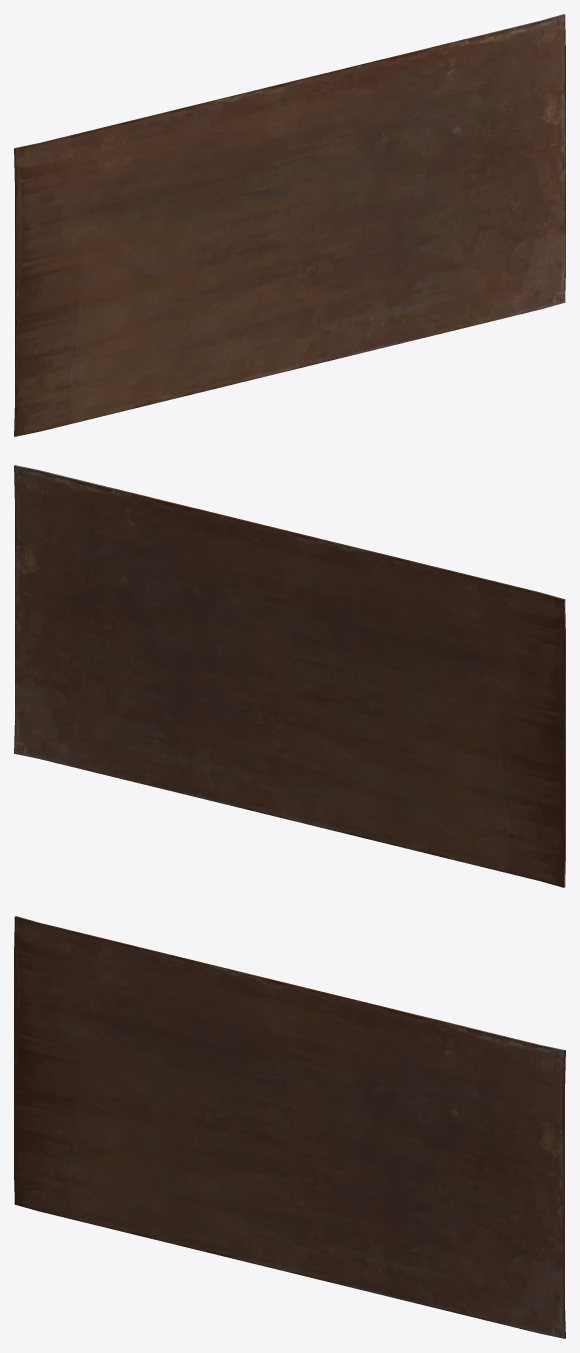
The model's file is mt_sign_a.glb.
3 renders of one model, top to bottom at view 1: azimuth 30°, elevation 25°; view 2: azimuth 150°, elevation 25°; view 3: azimuth 330°, elevation 25°, orthographic.
Parts seen in each view (by area): view 1: mt_sign_a; view 2: mt_sign_a; view 3: mt_sign_a.
Boxes of the visible parts, bbox=[...] form: mt_sign_a: bbox=[14, 14, 565, 436]; mt_sign_a: bbox=[14, 465, 565, 887]; mt_sign_a: bbox=[14, 916, 565, 1338].
Size of the model in its own units: 1.53 by 0.7645 by 0.00961.
1 material, 1 textured.
